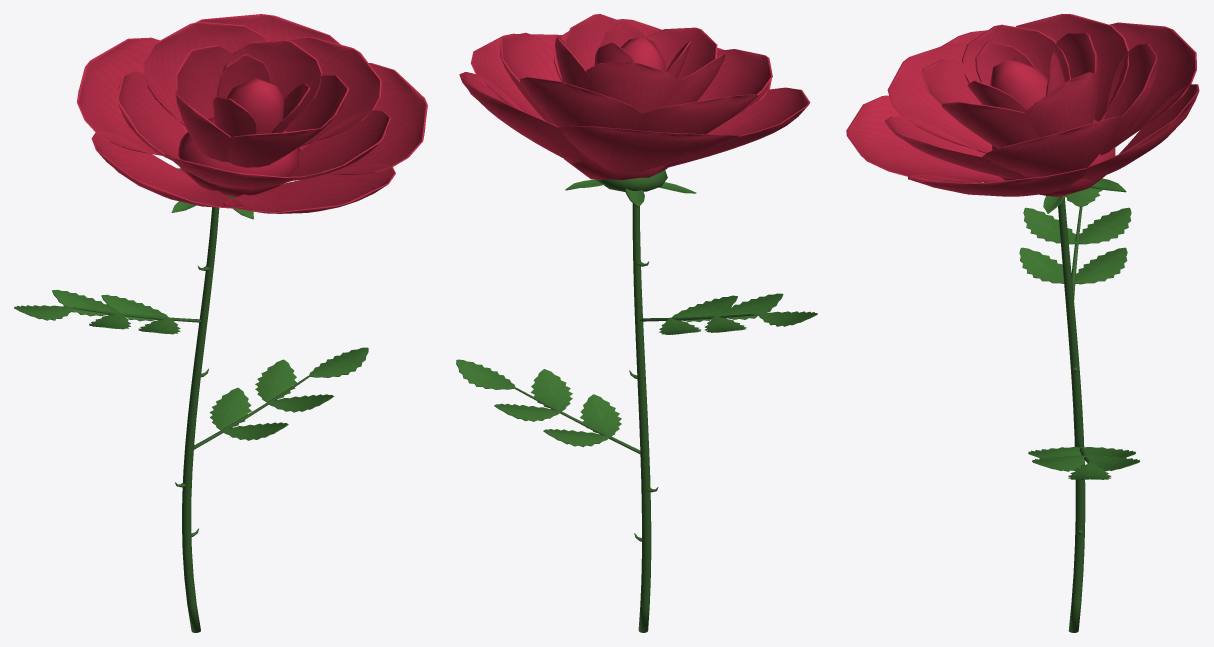
Rendered from rosa.glb.
The picture shows the model from 3 angles, left to right: view 1: azimuth 30°, elevation 25°; view 2: azimuth 150°, elevation 25°; view 3: azimuth 270°, elevation 25°; orthographic projection. The views are drawn at different scales.
Visible parts, largest first — view 1: Rose Rose layer 1 curved petal 3, Rose Rose layer 1 curved petal 5, Rose Rose layer 1 curved petal 1, Rose Rose layer 1 curved petal 4, Rose Rose layer 2 curved petal 2, Cut stem, Rose Rose layer 2 curved petal 1, Rose Rose layer 2 curved petal 3, Rose Rose layer 2 curved petal 5, Rose Rose layer 3 curved petal 1, Rose Rose layer 3 curved petal 2, Rose Rose seated inner petal base (+17 smaller); view 2: Rose Rose layer 1 curved petal 3, Cut stem, Rose Rose layer 2 curved petal 2, Rose Rose layer 1 curved petal 4, Rose Rose layer 3 curved petal 2, Rose Rose layer 1 curved petal 2, Rose Rose layer 2 curved petal 3, Rose Rose layer 2 curved petal 1, Rose Rose layer 2 curved petal 4, Rose Rose layer 1 curved petal 1, Rose Rose layer 3 curved petal 4, Rose Rose layer 3 curved petal 5 (+15 smaller); view 3: Rose Rose layer 1 curved petal 5, Rose Rose layer 2 curved petal 1, Rose Rose layer 2 curved petal 4, Rose Rose layer 1 curved petal 3, Cut stem, Rose Rose layer 2 curved petal 3, Rose Rose layer 2 curved petal 2, Rose Rose layer 3 curved petal 1, Rose Rose layer 2 curved petal 5, Rose Rose layer 1 curved petal 2, Rose Rose layer 3 curved petal 5, Rose Rose layer 3 curved petal 3 (+13 smaller).
Boxes of the visible parts, bbox=[...] form: Rose Rose layer 1 curved petal 3: bbox=[77, 37, 187, 155]; Rose Rose layer 1 curved petal 5: bbox=[223, 163, 395, 213]; Rose Rose layer 1 curved petal 1: bbox=[299, 63, 427, 174]; Rose Rose layer 1 curved petal 4: bbox=[91, 131, 243, 208]; Rose Rose layer 2 curved petal 2: bbox=[143, 21, 267, 125]; Cut stem: bbox=[182, 207, 219, 632]; Rose Rose layer 2 curved petal 1: bbox=[287, 36, 381, 146]; Rose Rose layer 2 curved petal 3: bbox=[117, 71, 185, 160]; Rose Rose layer 2 curved petal 5: bbox=[288, 110, 391, 180]; Rose Rose layer 3 curved petal 1: bbox=[222, 39, 322, 121]; Rose Rose layer 3 curved petal 2: bbox=[176, 45, 236, 118]; Rose Rose seated inner petal base: bbox=[178, 117, 300, 196]; Rose Rose layer 1 curved petal 3: bbox=[558, 125, 739, 174]; Cut stem: bbox=[632, 203, 651, 632]; Rose Rose layer 2 curved petal 2: bbox=[519, 77, 642, 130]; Rose Rose layer 1 curved petal 4: bbox=[664, 87, 810, 168]; Rose Rose layer 3 curved petal 2: bbox=[586, 62, 680, 113]; Rose Rose layer 1 curved petal 2: bbox=[459, 72, 581, 162]; Rose Rose layer 2 curved petal 3: bbox=[636, 94, 757, 134]; Rose Rose layer 2 curved petal 1: bbox=[500, 32, 561, 123]; Rose Rose layer 2 curved petal 4: bbox=[697, 49, 772, 101]; Rose Rose layer 1 curved petal 1: bbox=[470, 33, 562, 120]; Rose Rose layer 3 curved petal 4: bbox=[646, 27, 717, 80]; Rose Rose layer 3 curved petal 5: bbox=[564, 14, 621, 70]; Rose Rose layer 1 curved petal 5: bbox=[846, 95, 1004, 182]; Rose Rose layer 2 curved petal 1: bbox=[982, 116, 1122, 177]; Rose Rose layer 2 curved petal 4: bbox=[887, 43, 991, 153]; Rose Rose layer 1 curved petal 3: bbox=[1101, 22, 1196, 146]; Cut stem: bbox=[1058, 196, 1085, 632]; Rose Rose layer 2 curved petal 3: bbox=[1016, 14, 1128, 121]; Rose Rose layer 2 curved petal 2: bbox=[1100, 43, 1157, 155]; Rose Rose layer 3 curved petal 1: bbox=[1025, 72, 1096, 137]; Rose Rose layer 2 curved petal 5: bbox=[884, 116, 1025, 178]; Rose Rose layer 1 curved petal 2: bbox=[1081, 84, 1199, 179]; Rose Rose layer 3 curved petal 5: bbox=[942, 102, 1038, 148]; Rose Rose layer 3 curved petal 3: bbox=[962, 24, 1070, 83].
Bounding box in the file's own units: 0.2096 × 0.3169 × 0.1694.
3 materials, 3 textured.
